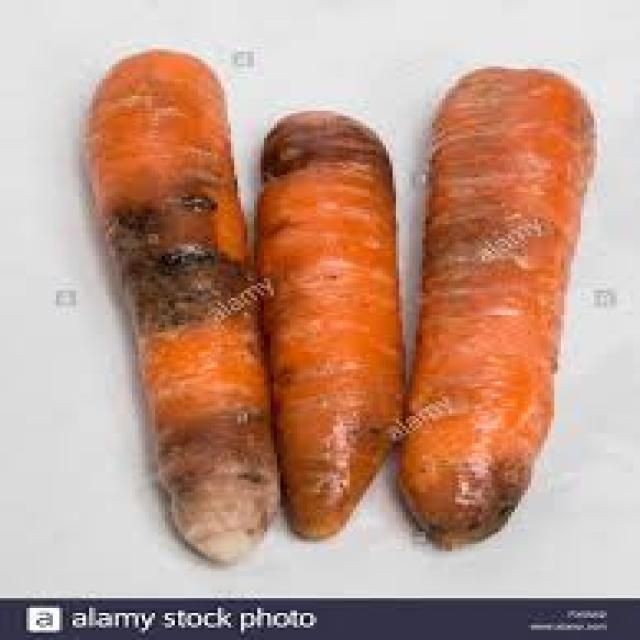food_waste: (86, 49, 591, 561)
